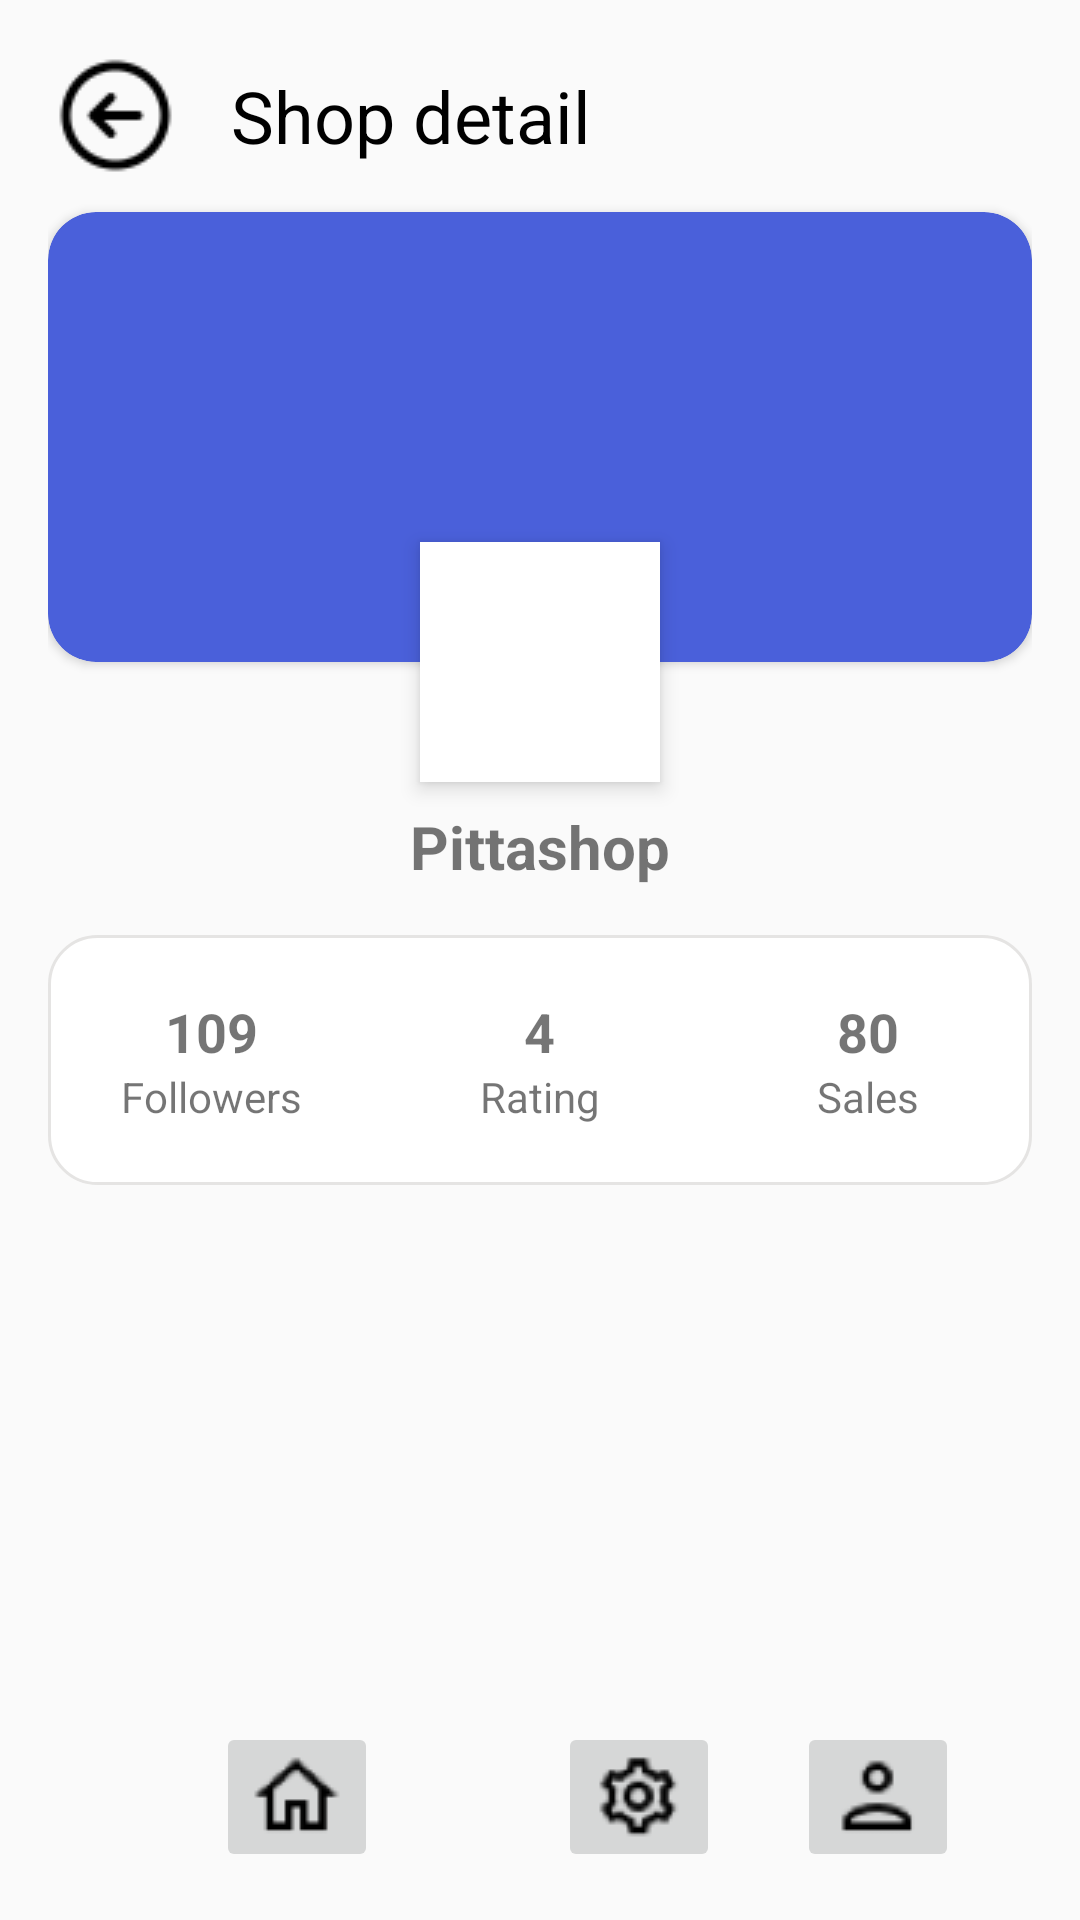

Locate icon controls on the screen. Image size 1080 × 1920, boxes as (left=x1, top=y1, right=x2, bottom=y2).
account: (left=809, top=1740, right=947, bottom=1854)
back arrow: (left=59, top=59, right=172, bottom=172)
home: (left=228, top=1740, right=366, bottom=1854)
setting: (left=570, top=1740, right=708, bottom=1854)
